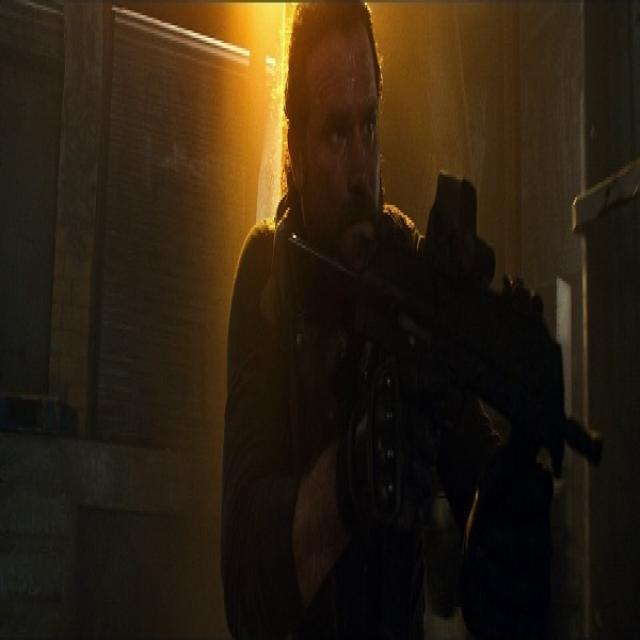rifle: (277, 161, 603, 516)
